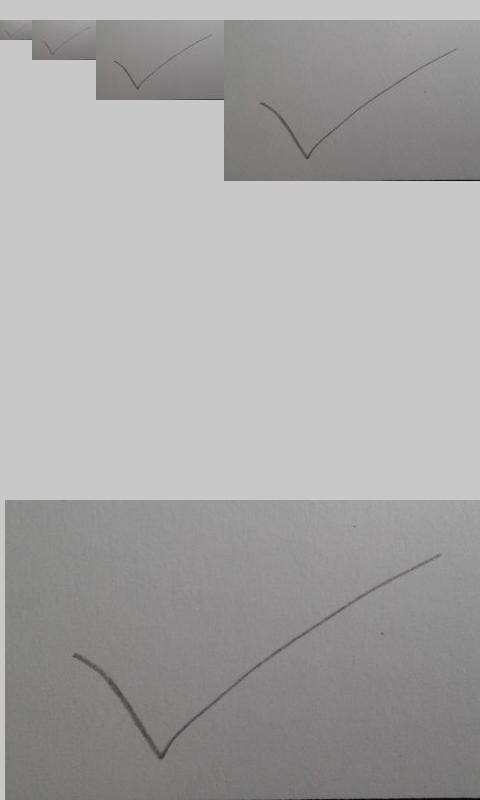check_box: (76, 556, 431, 761), (260, 49, 455, 159), (114, 34, 211, 90), (40, 26, 88, 55), (4, 24, 27, 39)
